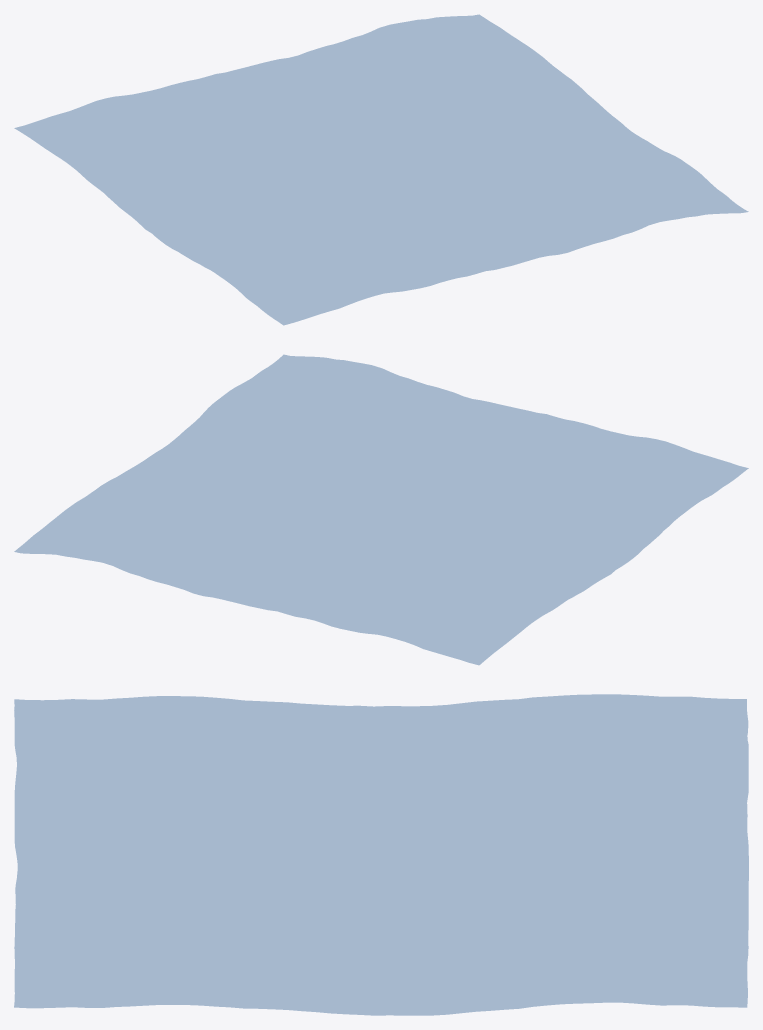
Rendered from ocean.glb.
3 views of the same model, one above another, from view 1: azimuth 30°, elevation 25°; view 2: azimuth 150°, elevation 25°; view 3: azimuth 270°, elevation 25° (orthographic). The views are drawn at different scales.
Parts seen in each view (by area): view 1: Plane.006; view 2: Plane.006; view 3: Plane.006.
Boxes of the visible parts, x1,y1,x2,y2 form: Plane.006: (14,14,748,325); Plane.006: (14,354,748,665); Plane.006: (14,694,748,1015).
Bounding box in the file's own units: 50.14 × 1.85 × 50.06.
